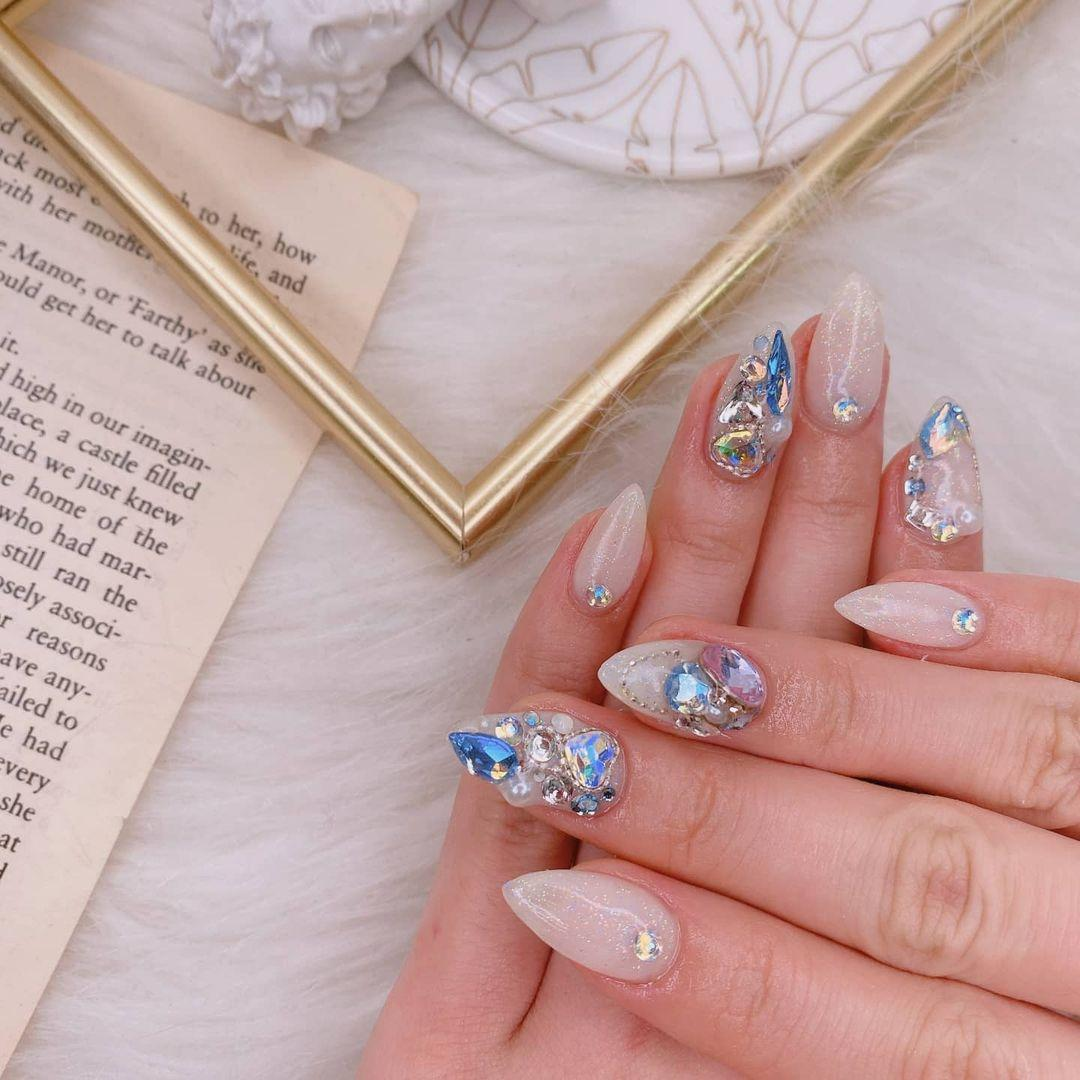nail: (500, 866, 681, 985), (800, 270, 885, 432), (832, 578, 984, 650), (569, 481, 648, 612)
